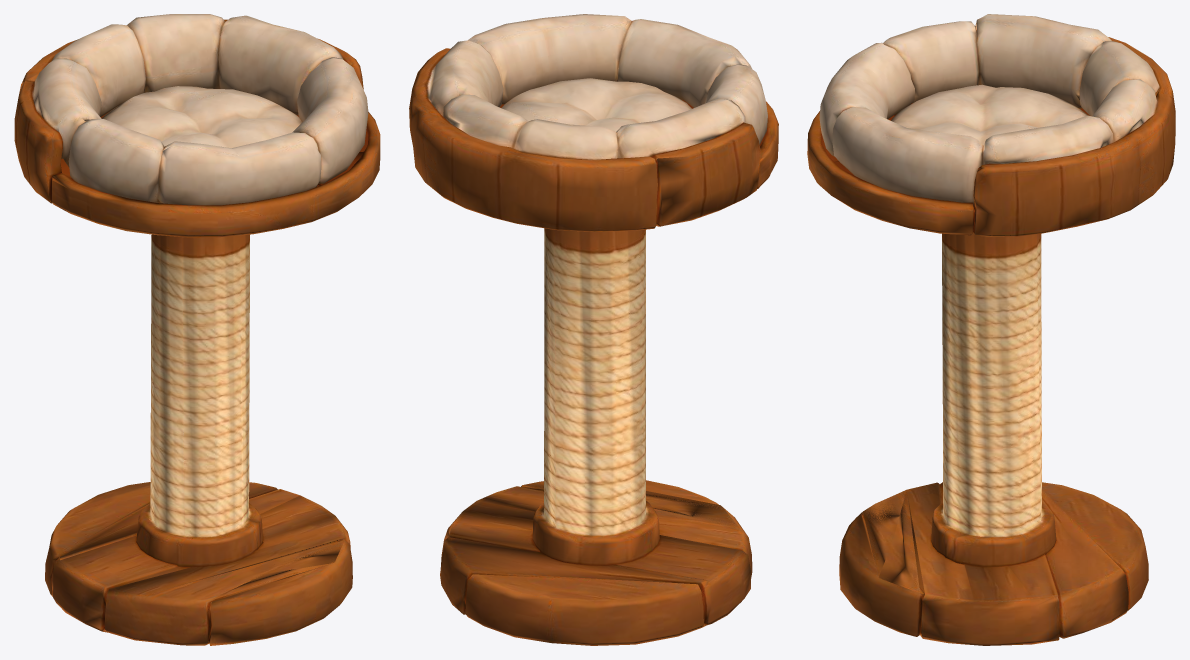
Rendered from cat_scratch_post.glb.
3 renders of one model, left to right at view 1: azimuth 30°, elevation 25°; view 2: azimuth 150°, elevation 25°; view 3: azimuth 270°, elevation 25°, orthographic.
Visible parts, largest first — view 1: cat_scratch_post; view 2: cat_scratch_post; view 3: cat_scratch_post.
Part boxes in pixels (x1,y1,x2,y2): cat_scratch_post: (14, 14, 380, 645); cat_scratch_post: (409, 14, 778, 645); cat_scratch_post: (807, 14, 1175, 645).
Bounding box in the file's own units: 0.5273 × 0.8 × 0.5249.
Materials: 1 (1 with a texture image).
